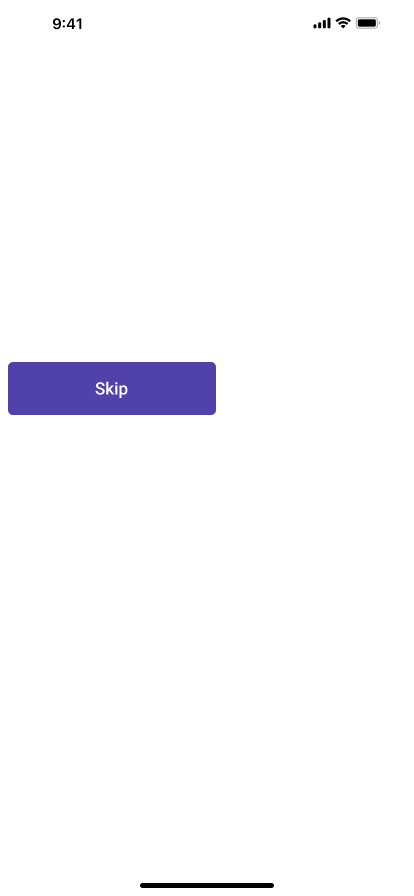Buttons: (8, 362, 216, 415)
Home Indicator: (0, 862, 414, 896)
Status Bar: (0, 0, 414, 44)
